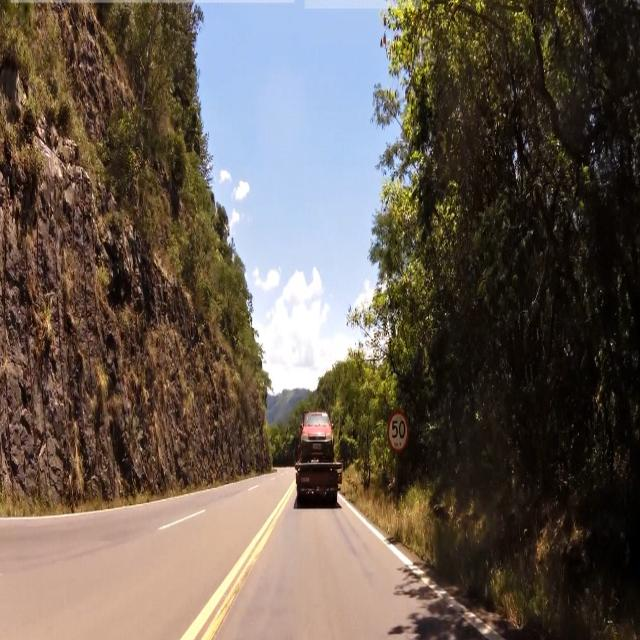R-19: (386, 409, 410, 455)
